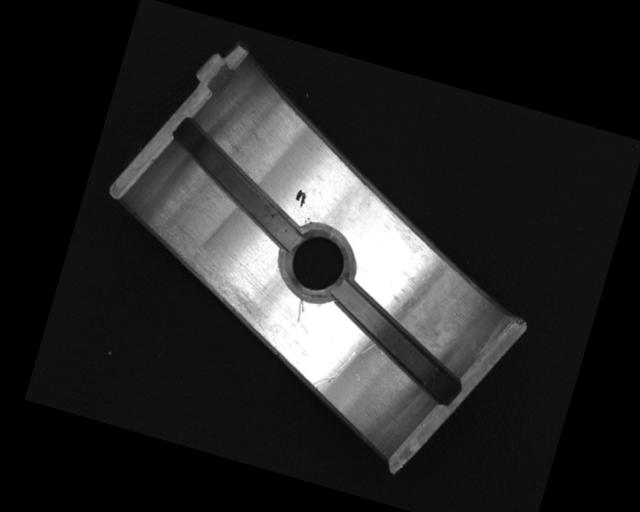blot: (293, 187, 308, 208)
gap: (151, 115, 321, 250), (315, 279, 480, 405)
hole: (270, 217, 364, 310)
nick: (311, 340, 358, 396), (294, 299, 307, 322)
scratch: (131, 223, 286, 335)
